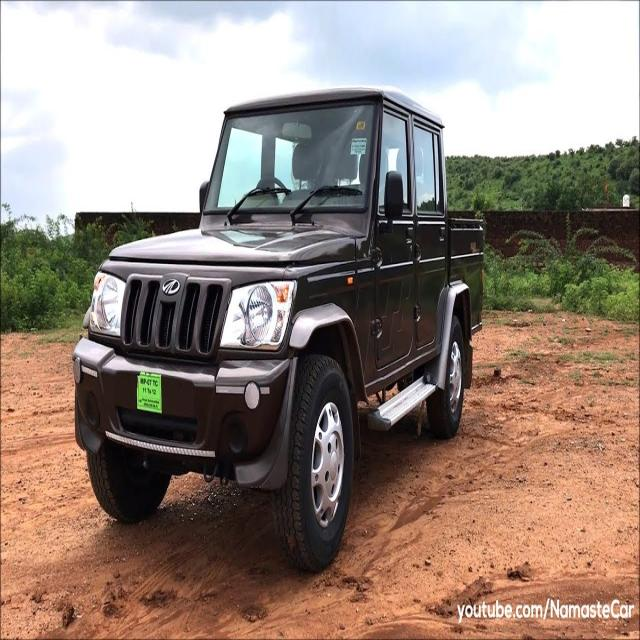light_vehicle: (69, 94, 489, 555)
